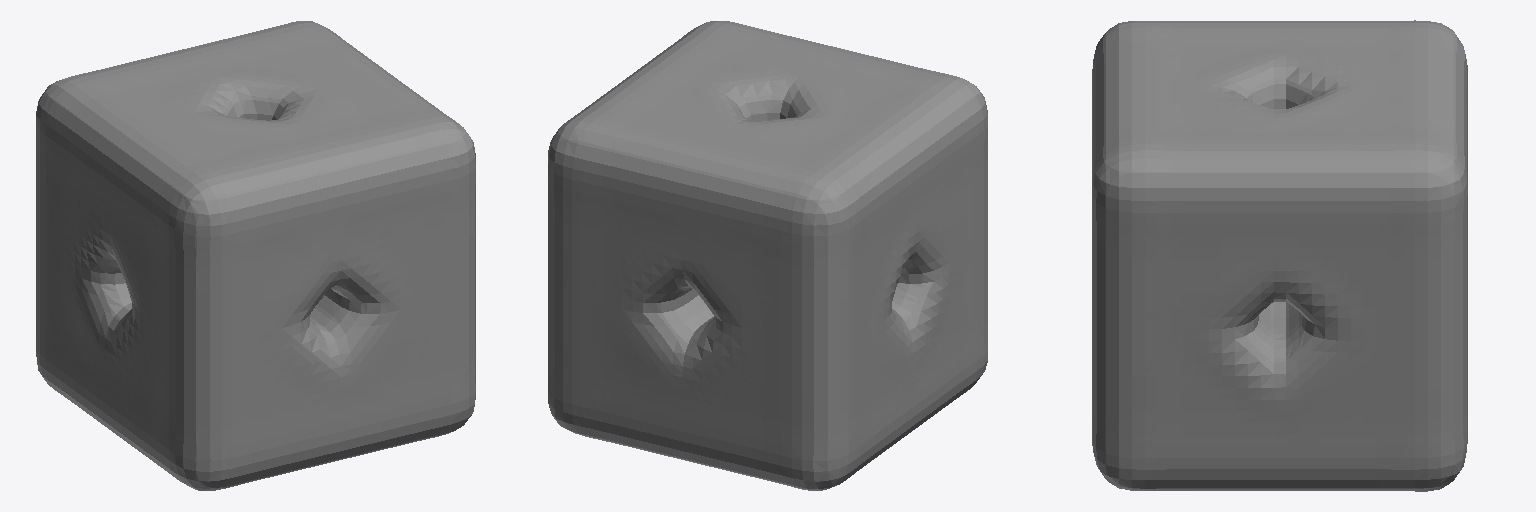
robot.urdf — cube.urdf:
<?xml version="0.0" ?> 
<robot name="cube.urdf"> 
<link name="legobrick"> 
<contact> 
<lateral_friction value="5.0"/> 
<rolling_friction value="0.0"/> 
<contact_cfm value="0.0"/> 
<contact_erp value="1.0"/> 
</contact> 
<inertial> 
<origin rpy="0 0 0" xyz="0.0 0.0 0.0"/> 
<mass value=".01"/> 
<inertia ixx="1" ixy="0" ixz="0" iyy="1" iyz="0" izz="1"/> 
</inertial> 
<visual> 
<origin rpy="1.570796 0 0" xyz="-0.025865173514509628 0.02587368968871708 -0.025873831185267676"/> 
<geometry> 
<mesh filename="H06_2.obj" scale="0.0006999996988251297 0.0006999996988251297 0.0006999996988251297"/> 
</geometry> 
<material name="yellow"> 
<color rgba="0.6 0.6 0.6 1"/> 
</material> 
</visual> 
<collision> 
<origin rpy="1.570796 0 0" xyz="-0.025865173514509628 0.02587368968871708 -0.025873831185267676"/> 
<geometry> 
<mesh filename="H06_2.obj" scale="0.0006999996988251297 0.0006999996988251297 0.0006999996988251297"/> 
</geometry> 
</collision> 
</link> 
</robot>

--- Facts derived from the render (not from the file) ---
Views: 3 orthographic renders of the robot side by side, from view 1: azimuth 30°, elevation 25°; view 2: azimuth 150°, elevation 25°; view 3: azimuth 270°, elevation 25°.
Model cube.urdf with 1 links and 0 joints (none), rooted at legobrick, posed all joints at 0.
Visible links, largest first — view 1: legobrick; view 2: legobrick; view 3: legobrick.
Link boxes in pixels (left/top/right/bottom): legobrick: left=36, top=21, right=475, bottom=490; legobrick: left=548, top=21, right=987, bottom=490; legobrick: left=1092, top=20, right=1467, bottom=491.
Bounding box of the posed robot: 0.056 × 0.056 × 0.056 m (x, y, z).
1 mesh visuals loaded from 1 distinct referenced files (1 OBJ).
